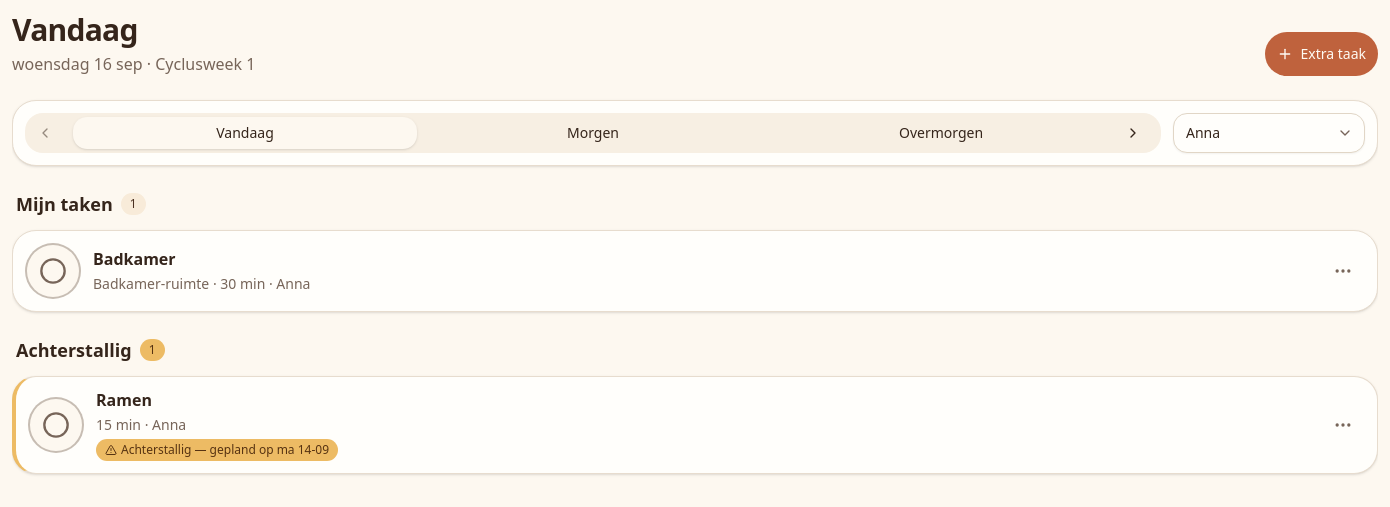
Test case: TodayPage › shows the active profile by default and can switch to another person or everyone
Expected: the heading "Mijn taken" is shown, x1=16 y1=190 x2=113 y2=218
Expected: the text "Badkamer" is shown, x1=93 y1=248 x2=176 y2=270
Select "Bram de Vries" in the dropdown named "Filter op persoon": (1269, 133) x1=1173 y1=113 x2=1365 y2=153
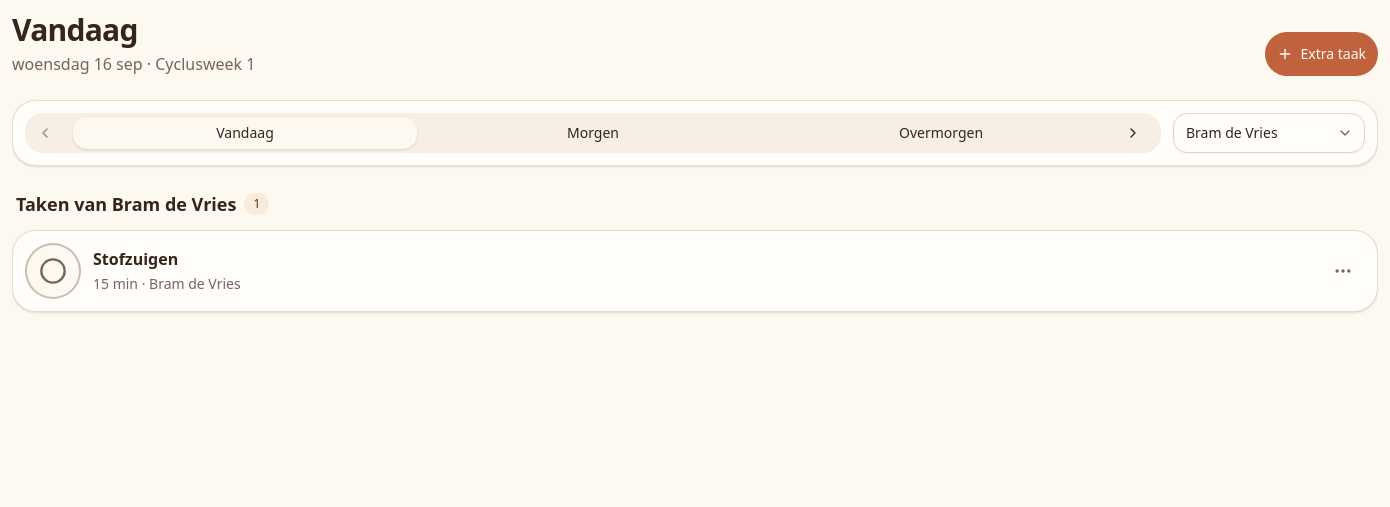
Result: the heading "Taken van Bram de Vries" is shown at x1=16 y1=190 x2=236 y2=218
Result: the text "Stofzuigen" is shown at x1=93 y1=248 x2=178 y2=270
Result: the text "Badkamer" is gone
Select "Wie dan ook" in the dropdown named "Filter op persoon": (1269, 133) x1=1173 y1=113 x2=1365 y2=153
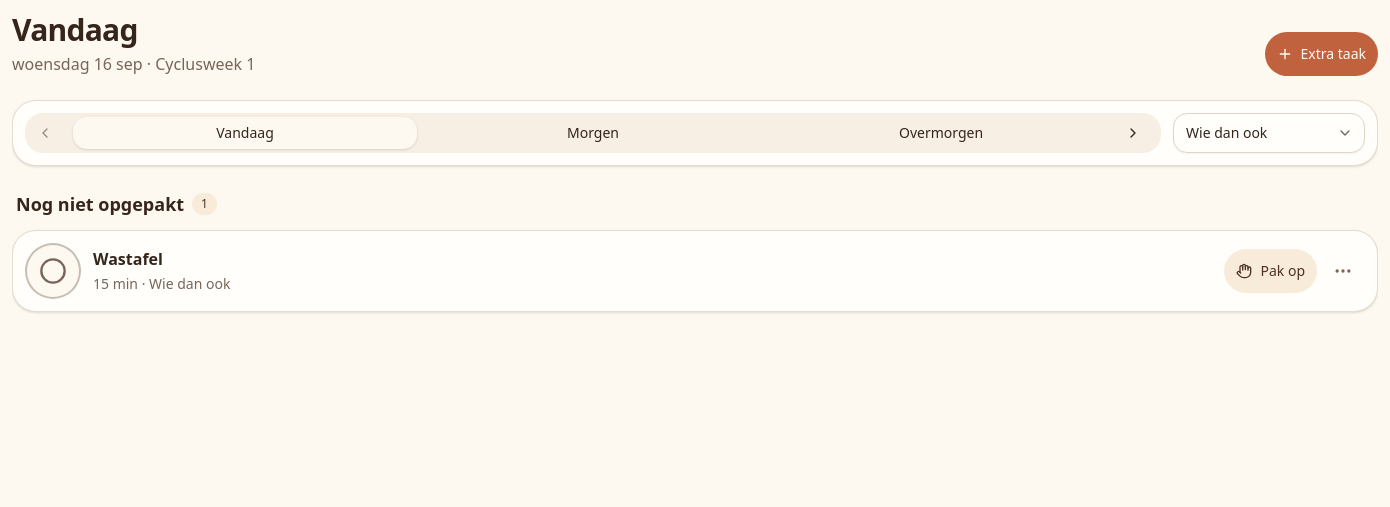
Select "Iedereen" in the dropdown named "Filter op persoon": (1269, 133) x1=1173 y1=113 x2=1365 y2=153
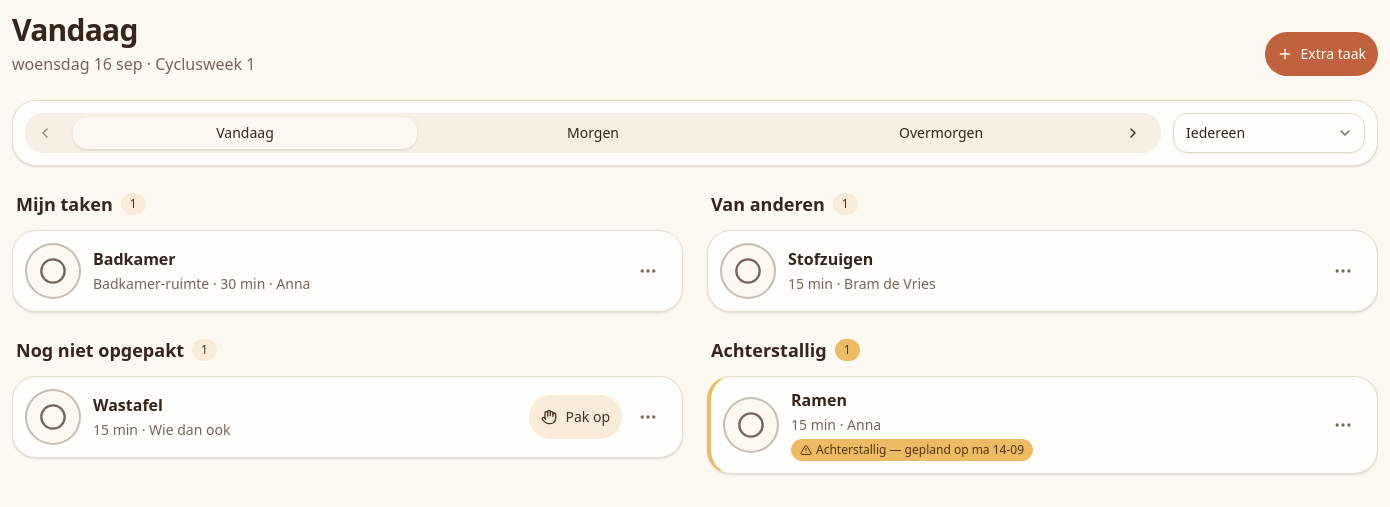
Result: the text "Wastafel" is shown at x1=93 y1=394 x2=163 y2=416
Result: the text "Stofzuigen" is shown at x1=788 y1=248 x2=873 y2=270
Result: the list item "Ramen" shows "Achterstallig — gepland op ma 14-09" at x1=816 y1=441 x2=1024 y2=458
